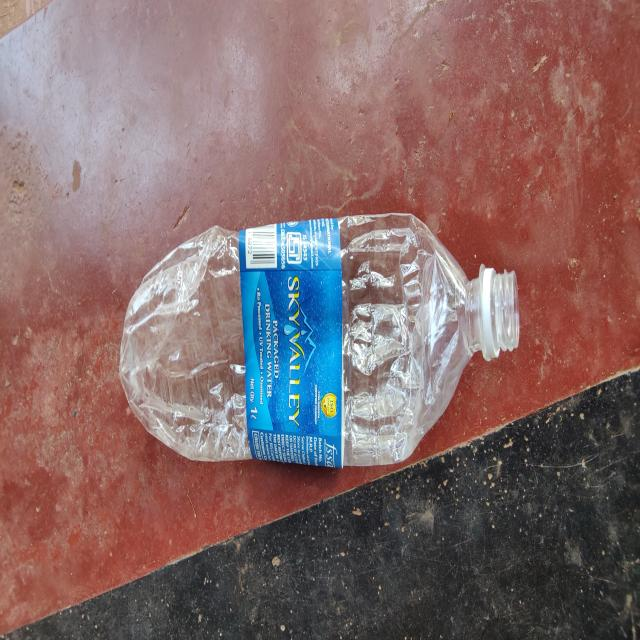plastic: (117, 211, 521, 467)
